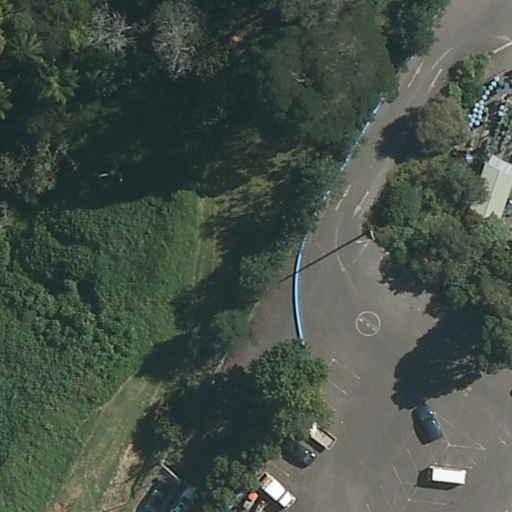DT: (365, 225, 378, 245)
